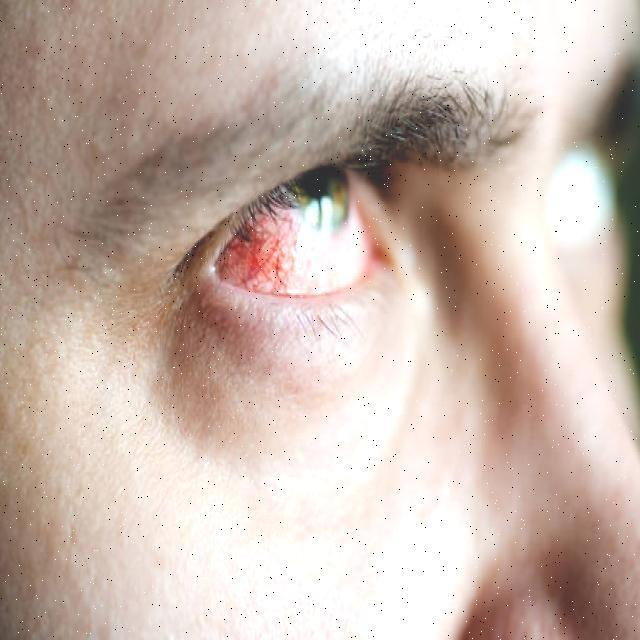Conjunctivitis: (210, 200, 378, 304)
